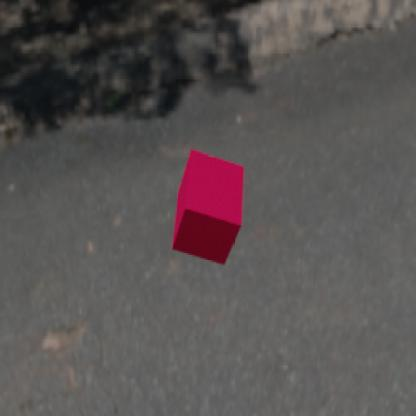red_cube: (170, 148, 244, 266)
